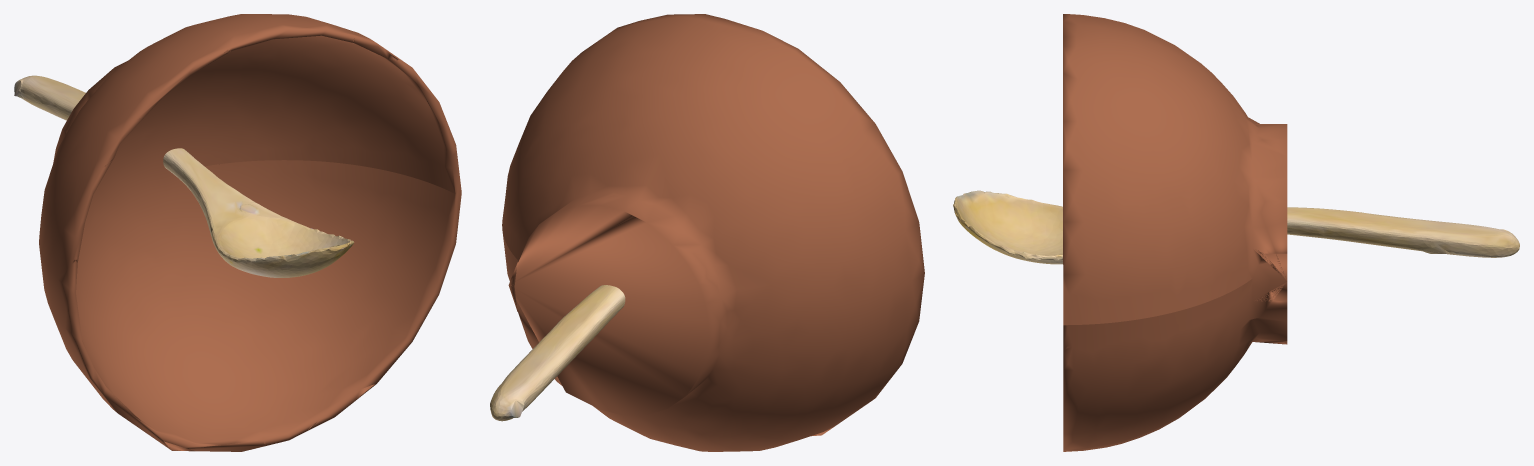
The picture shows the model from 3 angles, left to right: view 1: azimuth 30°, elevation 25°; view 2: azimuth 150°, elevation 25°; view 3: azimuth 270°, elevation 25°; orthographic projection. The views are drawn at different scales.
Parts seen in each view (by area): view 1: world; view 2: world; view 3: world.
Boxes of the visible parts, x1=… form: world: x1=14, y1=14, x2=461, y2=451; world: x1=490, y1=14, x2=924, y2=451; world: x1=953, y1=14, x2=1519, y2=451.
Bounding box in the file's own units: 0.1489 × 0.149 × 0.1935.
